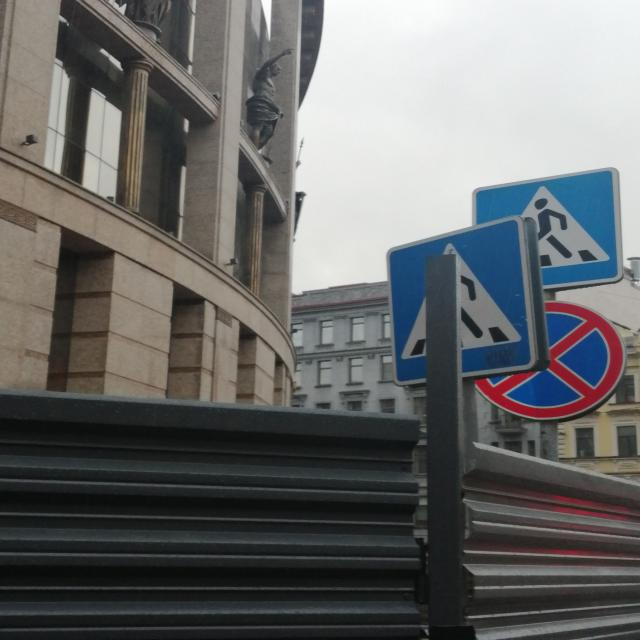road sign: (387, 217, 545, 385), (472, 167, 621, 290)
